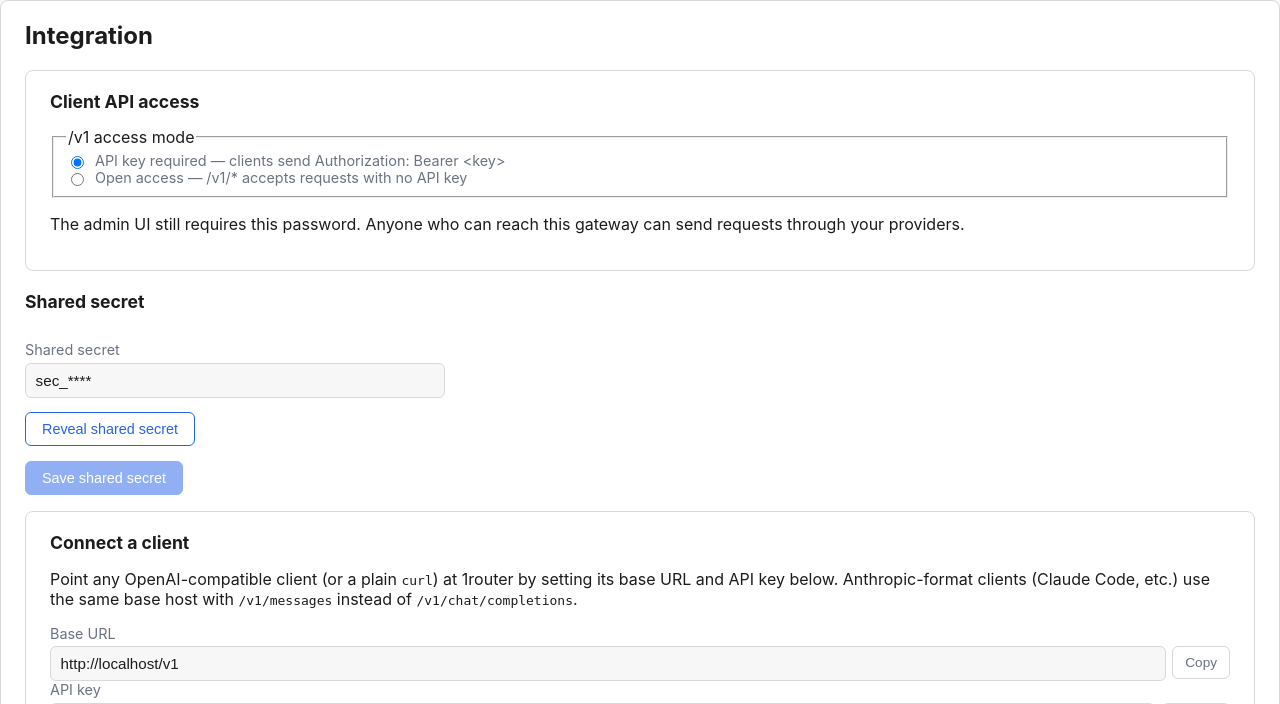
Test: Integration › prevents_saving_shared_secret_until_revealed_and_edited
This screenshot has width=1280, height=704.
expect the button "Save shared secret" is disabled: met, box [25,461,183,495]
Click the button "Reveal shared secret" at (110, 429), box [25,412,195,446]
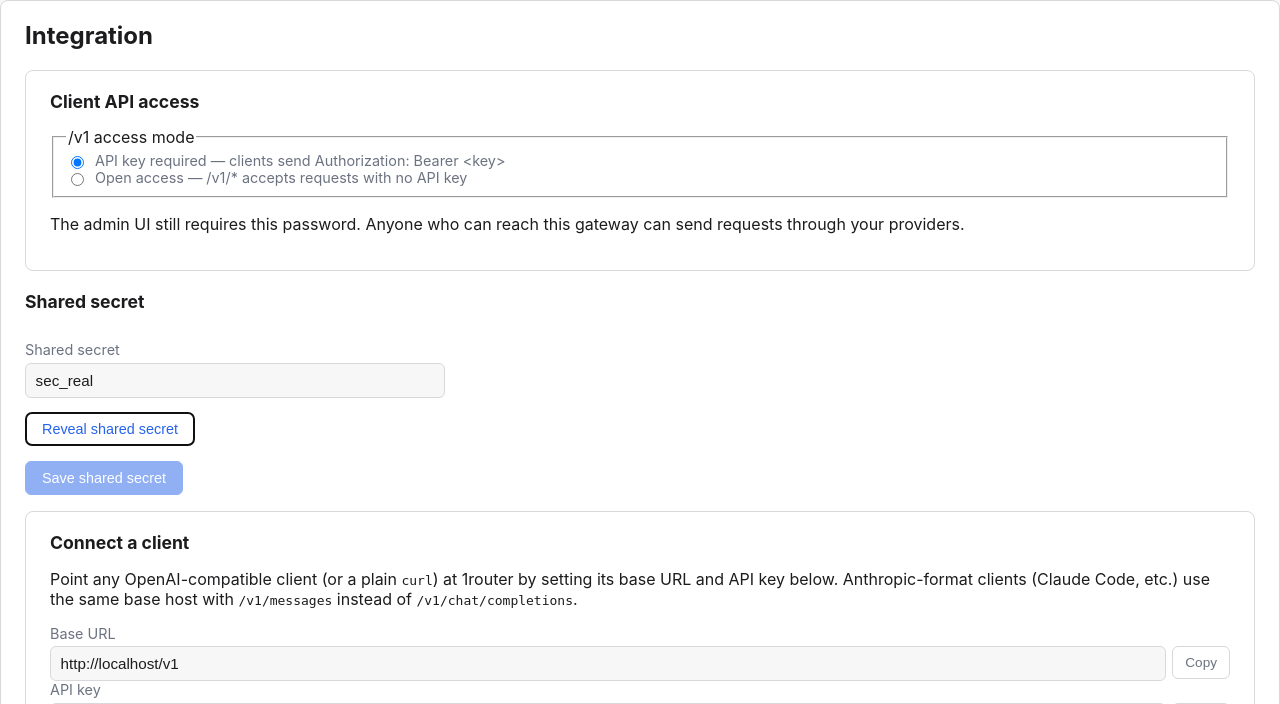
expect the button "Save shared secret" is disabled: met, box [25,461,183,495]
Type "-edited" into the field labelled "Shared secret" at (235, 380), box [25,363,445,398]
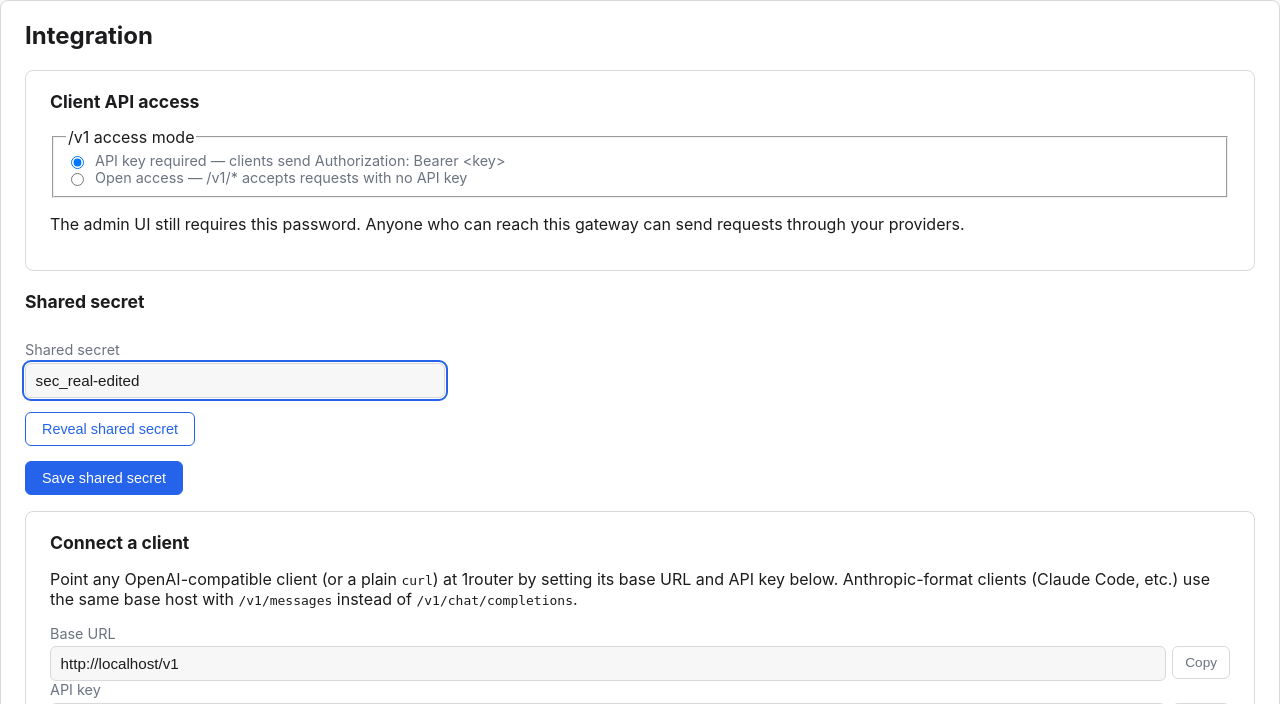
expect the button "Save shared secret" is enabled: met, box [25,461,183,495]
